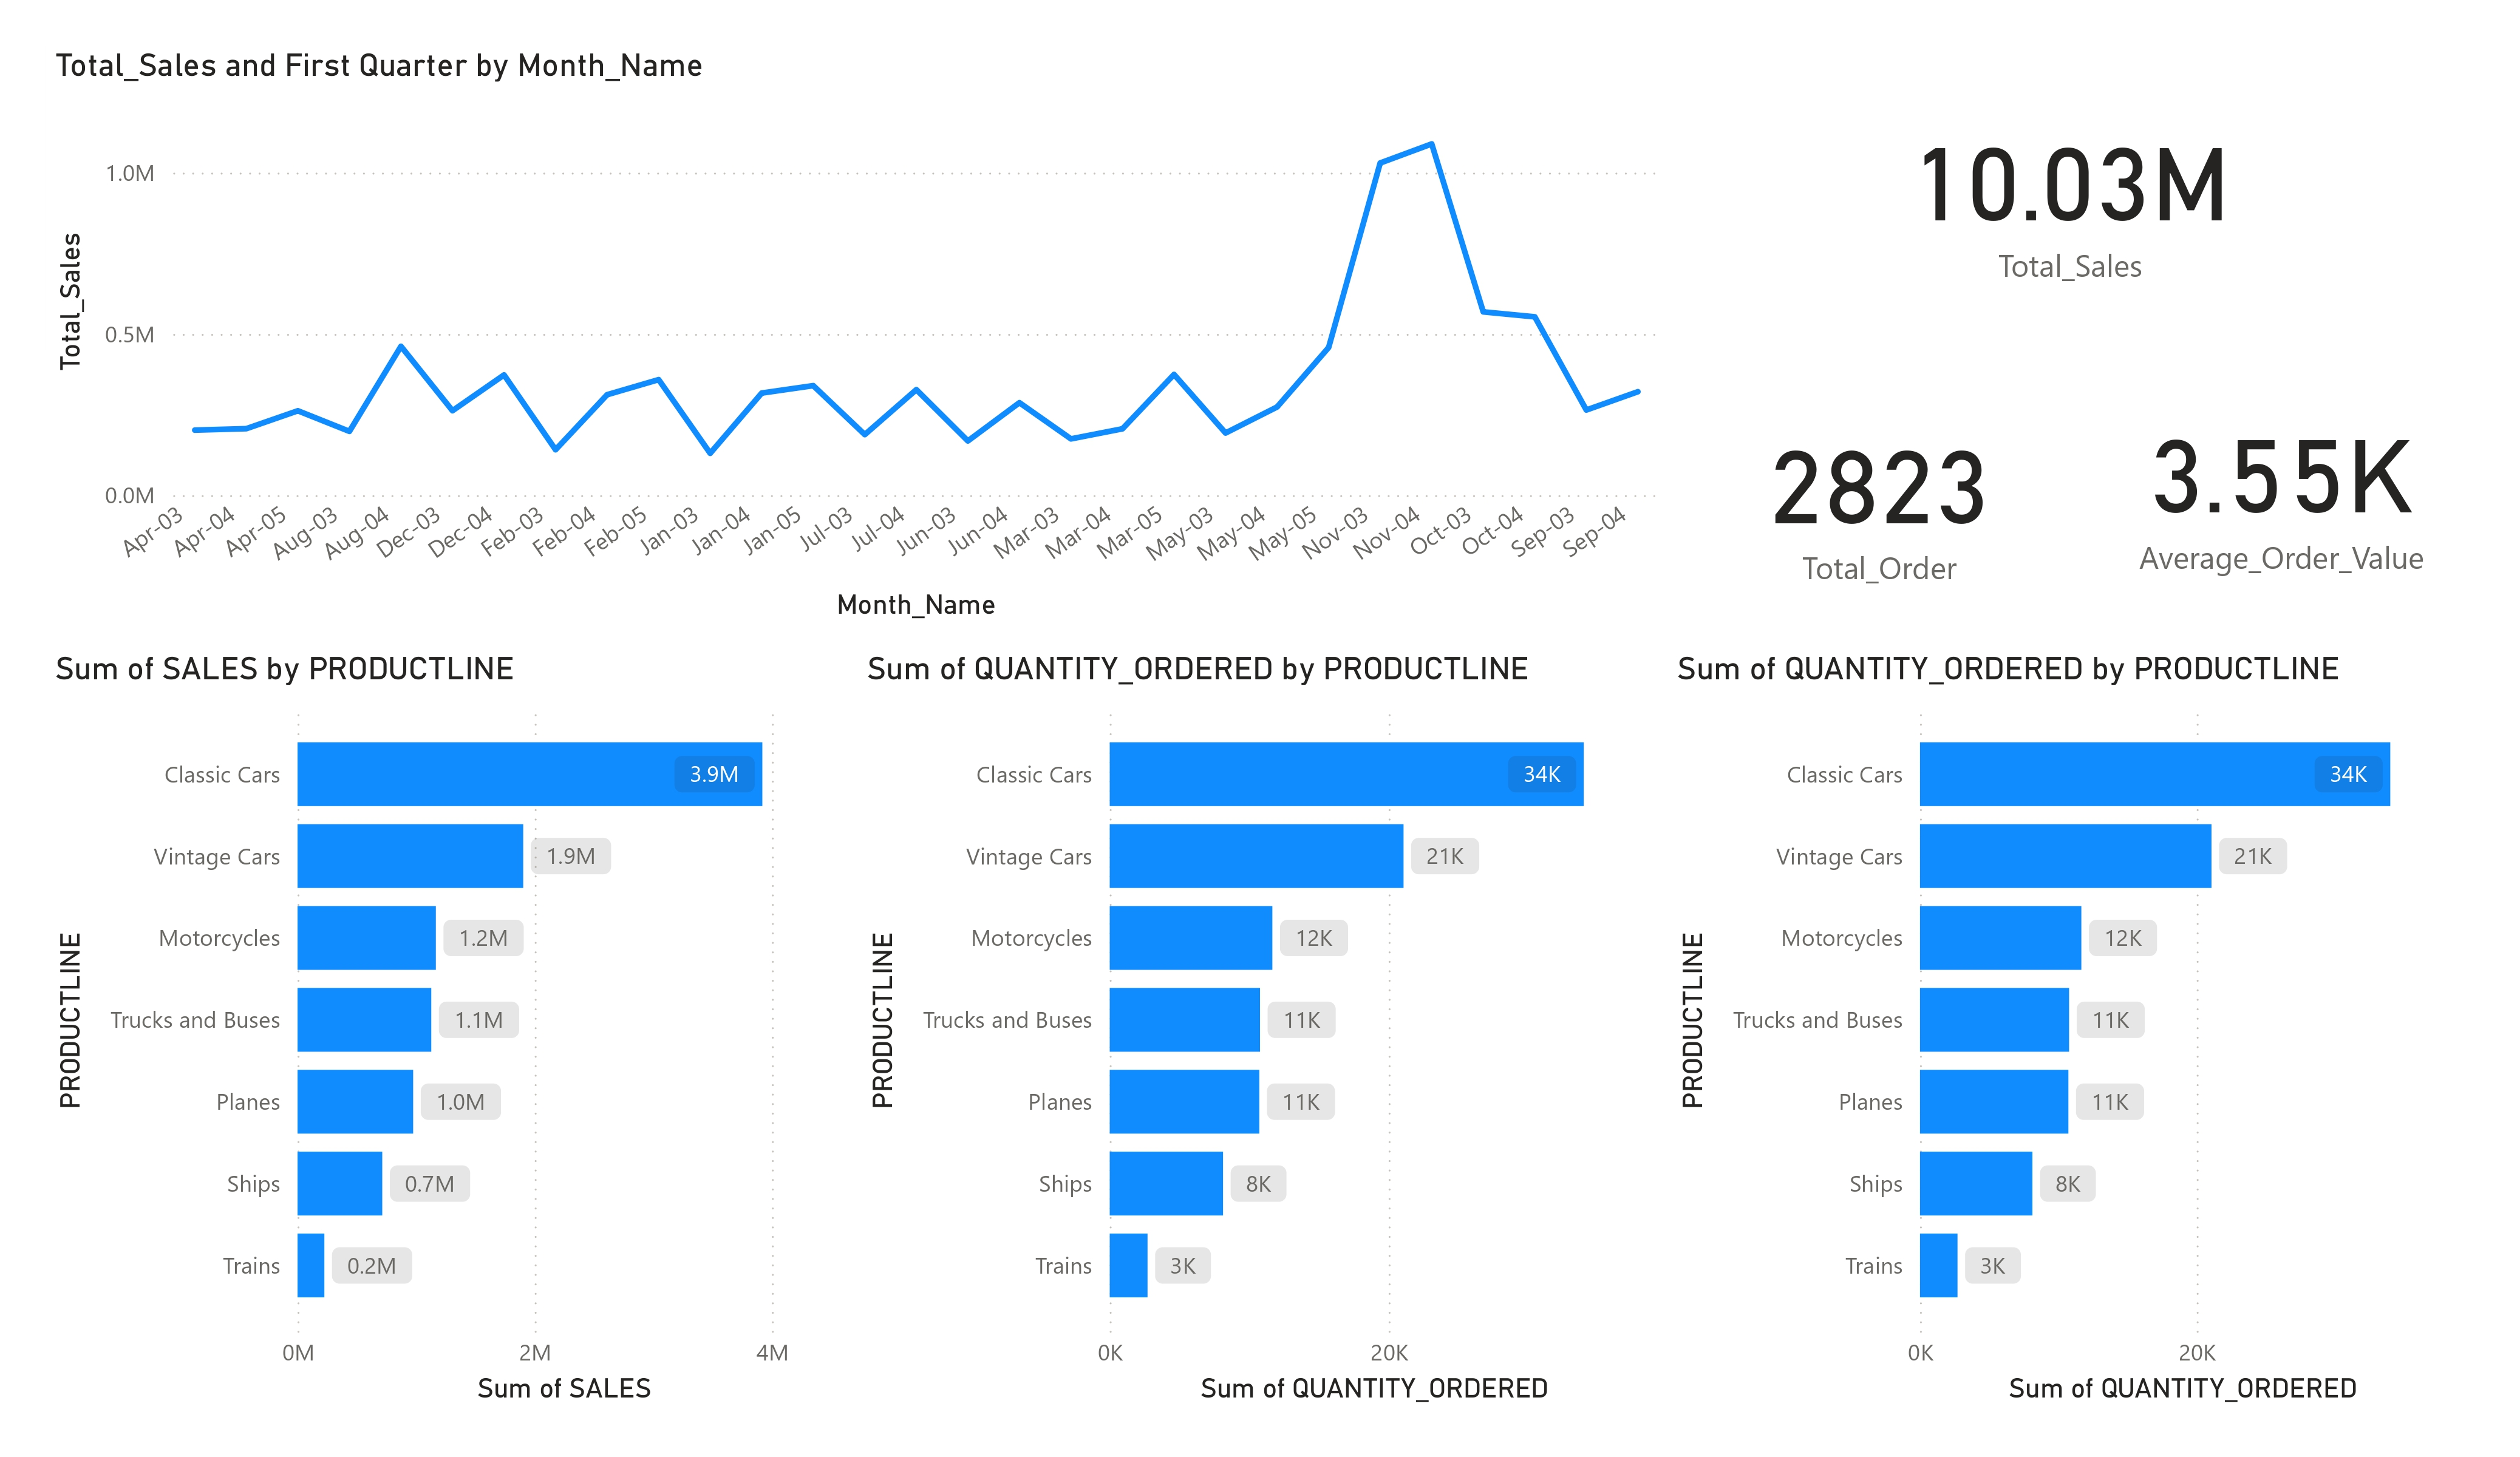

The dashboard page shown, as its layout file describes it:
{"tool":"powerbi","page":{"name":"Sales Permonance","canvas":[1280,720],"ordinal":0},"visuals":[{"type":"lineChart","fields":{"Category":["sales_data_sample.Month_Name"],"Y":["Measures (2).Total_Sales"]},"box":[0,0,854.9,307.8],"z":0},{"type":"clusteredBarChart","fields":{"Category":["sales_data_sample.PRODUCTLINE"],"Y":["Sum(sales_data_sample.SALES)"]},"box":[0,318.5,428.2,402.3],"z":1000},{"type":"clusteredBarChart","fields":{"Category":["sales_data_sample.PRODUCTLINE"],"Y":["Sum(sales_data_sample.QUANTITY_ORDERED)"]},"box":[428.2,318.5,426.7,402.3],"z":2000},{"type":"clusteredBarChart","fields":{"Category":["sales_data_sample.PRODUCTLINE"],"Y":["Sum(sales_data_sample.QUANTITY_ORDERED)"]},"box":[854.9,318.5,425.1,402.3],"z":3000},{"type":"card","fields":{"Values":["Measures (2).Total_Sales"]},"box":[854.3,0,425.7,154.3],"z":4000},{"type":"card","fields":{"Values":["Measures (2).Total_Order"]},"box":[855.7,154.3,221.4,164.3],"z":5000},{"type":"card","fields":{"Values":["Measures (2).Average_Order_Value"]},"box":[1077.1,142.9,202.9,175.7],"z":6000}]}

Visuals, with their boxes on the page's 1280x720 design canvas (x1, y1, x2, y2). These are canvas units, not pixel positions in the 2520x1457 screenshot, which may show the page scaled, cropped or inside an application window:
lineChart - sales_data_sample.Month_Name x Measures (2).Total_Sales: Rect(0, 0, 855, 308)
clusteredBarChart - sales_data_sample.PRODUCTLINE x Sum(sales_data_sample.SALES): Rect(0, 318, 428, 721)
clusteredBarChart - sales_data_sample.PRODUCTLINE x Sum(sales_data_sample.QUANTITY_ORDERED): Rect(428, 318, 855, 721)
clusteredBarChart - sales_data_sample.PRODUCTLINE x Sum(sales_data_sample.QUANTITY_ORDERED): Rect(855, 318, 1280, 721)
card - Measures (2).Total_Sales: Rect(854, 0, 1280, 154)
card - Measures (2).Total_Order: Rect(856, 154, 1077, 319)
card - Measures (2).Average_Order_Value: Rect(1077, 143, 1280, 319)
